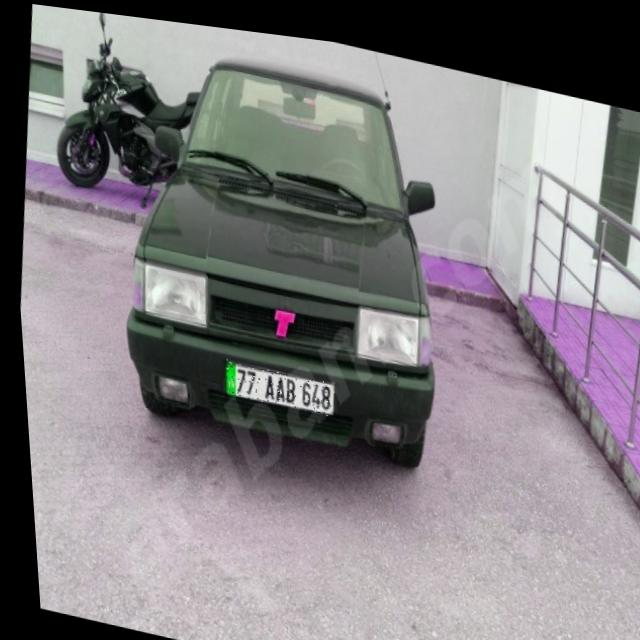license_plate: (218, 353, 331, 410)
